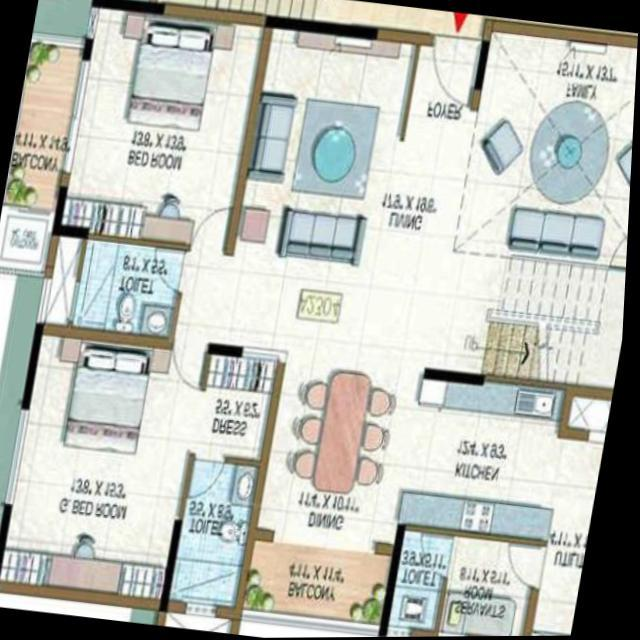Balcony-Sitout: (0, 41, 78, 265), (5, 41, 83, 213), (248, 539, 397, 625), (254, 540, 395, 620)
Bedroom: (59, 1, 267, 248), (66, 9, 260, 245), (447, 541, 547, 637)
Bedroom with Toilet: (1, 329, 283, 612), (7, 335, 281, 607), (394, 528, 543, 637)
Dining: (278, 352, 407, 511)
Dress: (199, 354, 280, 459), (200, 358, 279, 455)
Enterance-Foyer: (406, 8, 486, 149), (407, 33, 481, 129)
Kitchen: (402, 374, 569, 540), (405, 383, 571, 542)
Living: (231, 27, 415, 294), (456, 29, 638, 270), (236, 27, 415, 271), (457, 32, 638, 266)
Toilet: (175, 459, 263, 606), (180, 462, 259, 603), (74, 238, 184, 337), (72, 242, 185, 336), (396, 534, 457, 627), (396, 534, 456, 628)
Utility: (538, 437, 609, 634), (539, 443, 608, 637)
